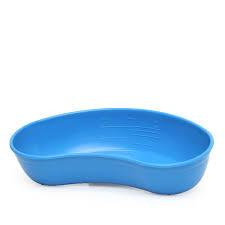Kidney Tray: (10, 106, 215, 199)
